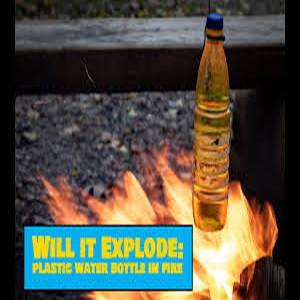Plastic: (193, 10, 228, 232)
